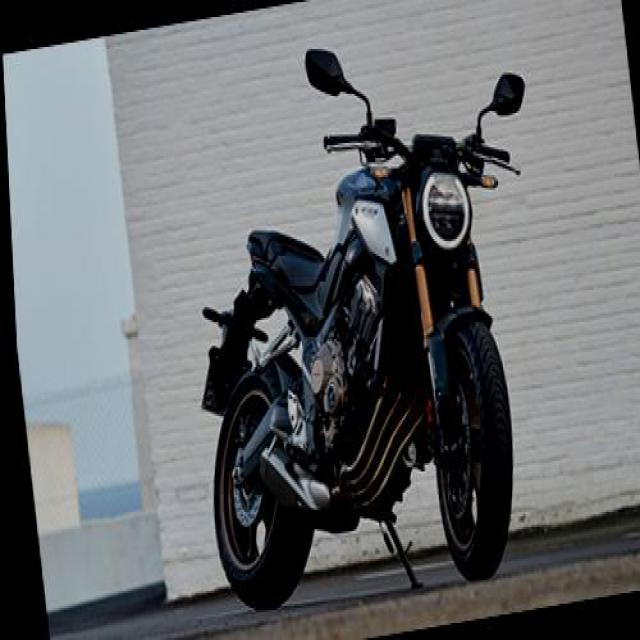CB650R: (162, 9, 574, 620)
